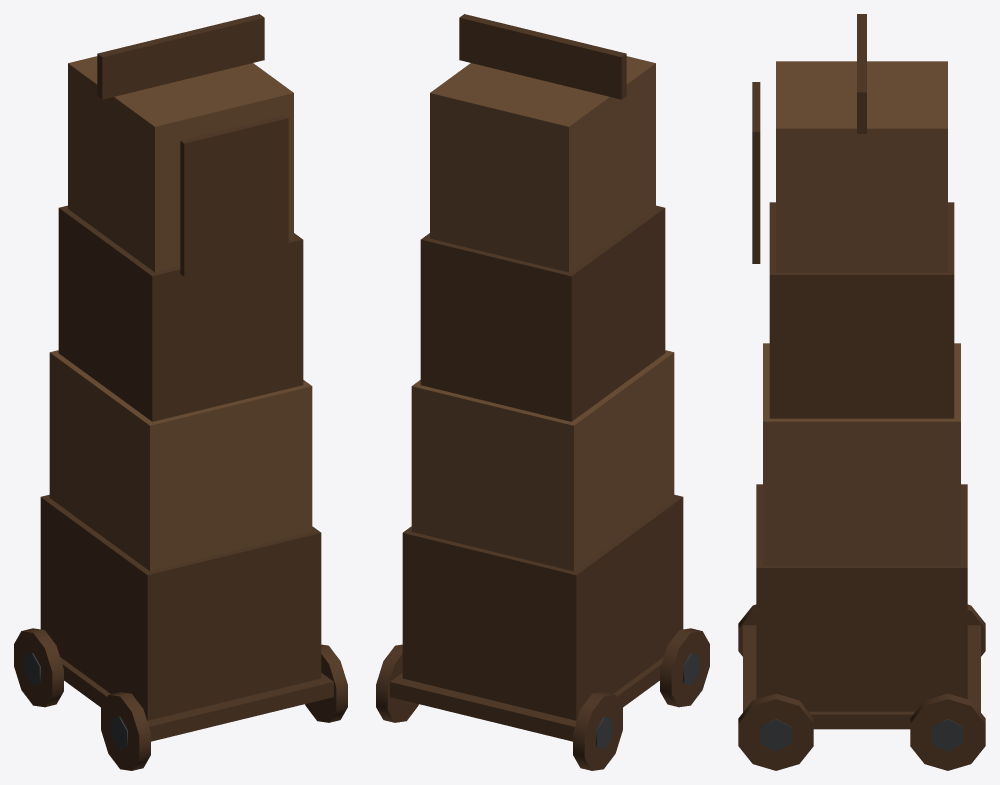
File: unit_mil_siege_tower_a04.glb
3 renders of one model, left to right at view 1: azimuth 30°, elevation 25°; view 2: azimuth 150°, elevation 25°; view 3: azimuth 270°, elevation 25°, orthographic.
Visible parts, largest first — view 1: body, bridge, wheel_2, wheel_0, wheel_3; view 2: body, wheel_0, wheel_2, wheel_1; view 3: body, wheel_1, wheel_3, bridge.
Part boxes in pixels (x1,y1,x2,y2): body: (40, 14, 333, 741); bridge: (180, 115, 288, 276); wheel_2: (101, 692, 150, 770); wheel_0: (14, 628, 63, 707); wheel_3: (305, 644, 347, 722); body: (390, 14, 683, 741); wheel_0: (573, 692, 622, 770); wheel_2: (660, 628, 709, 707); wheel_1: (376, 644, 418, 722); body: (743, 14, 980, 729); wheel_1: (910, 693, 985, 770); wheel_3: (738, 693, 813, 770); bridge: (752, 82, 760, 263).
Size of what is drawn, in the model's own units: 3.64 by 11.15 by 3.74.
